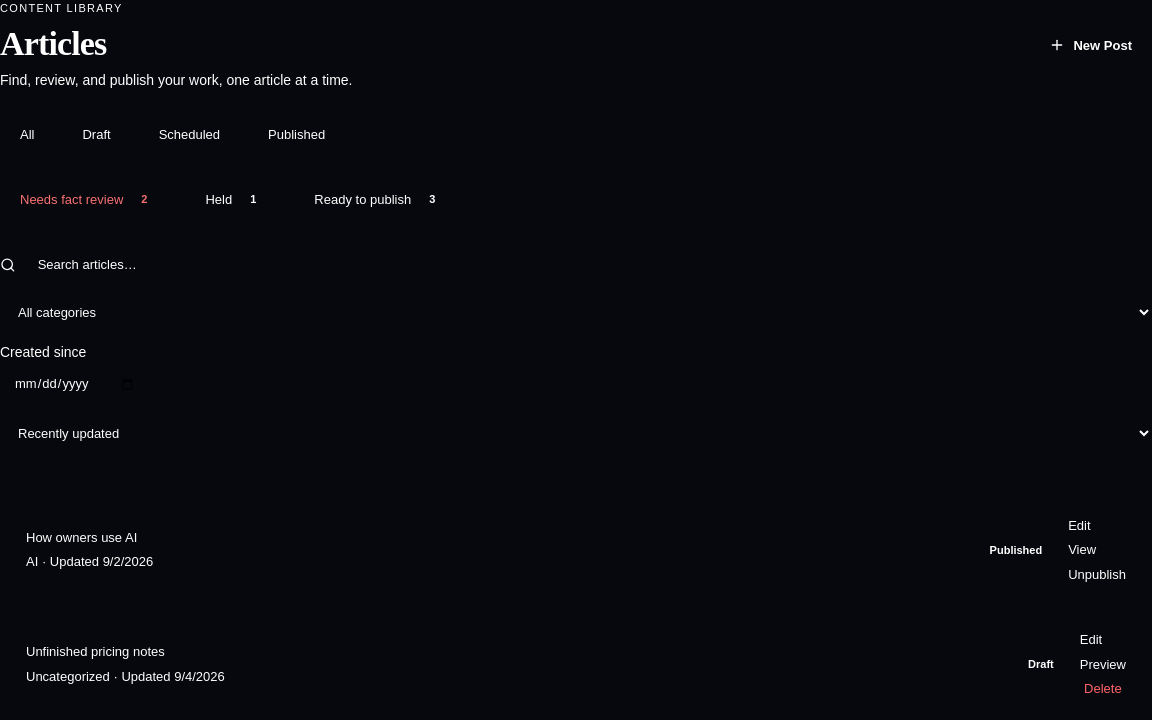
Test: articles list row actions › unpublishes a live article back to draft after a clear warning
What coordinates should you click on to do the following:
click the button "Unpublish"
I would click on:
 (1097, 574)
Its box is [1068,565,1126,584].
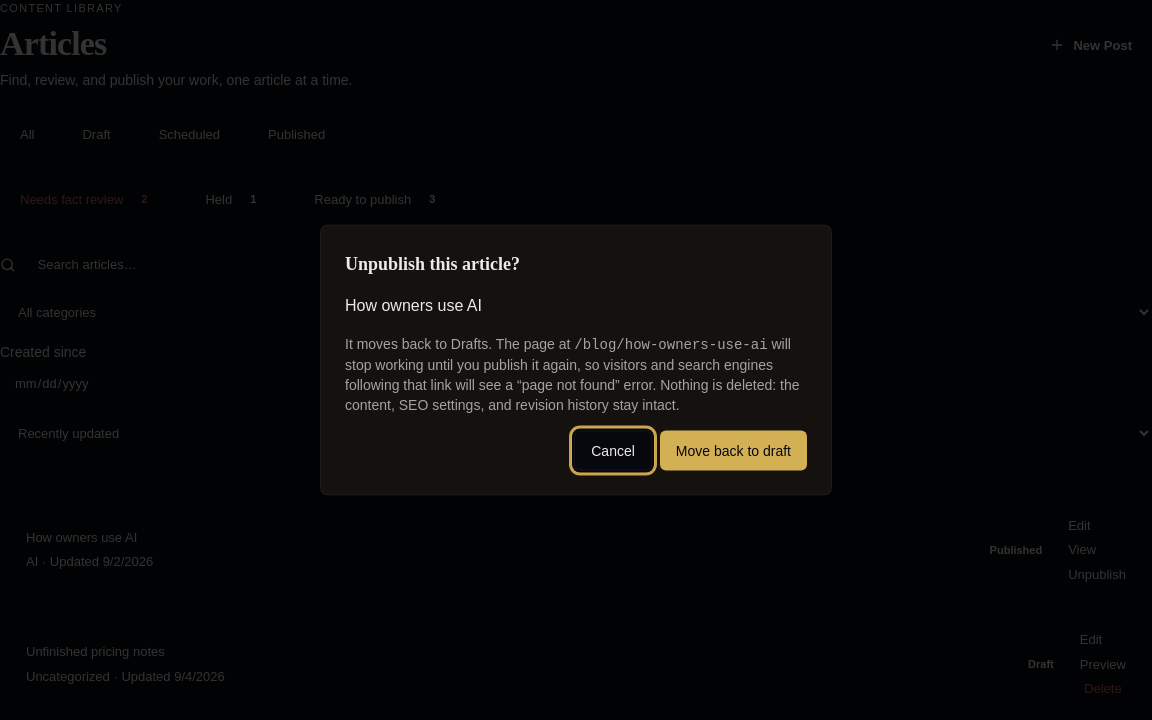
Result: the dialog shows "Unpublish this article?" at [345,254,520,274]
Result: the dialog shows "How owners use AI" at [345,296,482,314]
Result: the dialog shows "stop working until you publish it again" at [345,336,800,412]
What coordinates should you click on to do the following:
click the button "Move back to draft"
I would click on:
 (733, 450)
Its box is [660,430,807,470].
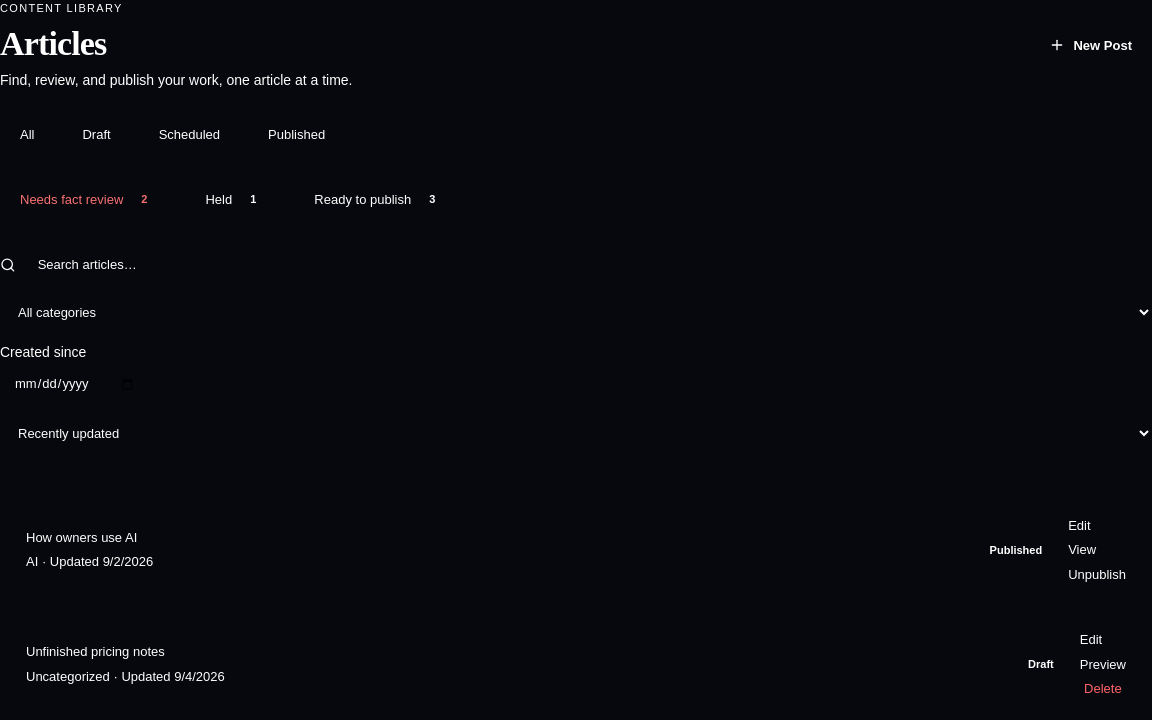
Result: the dialog is gone
